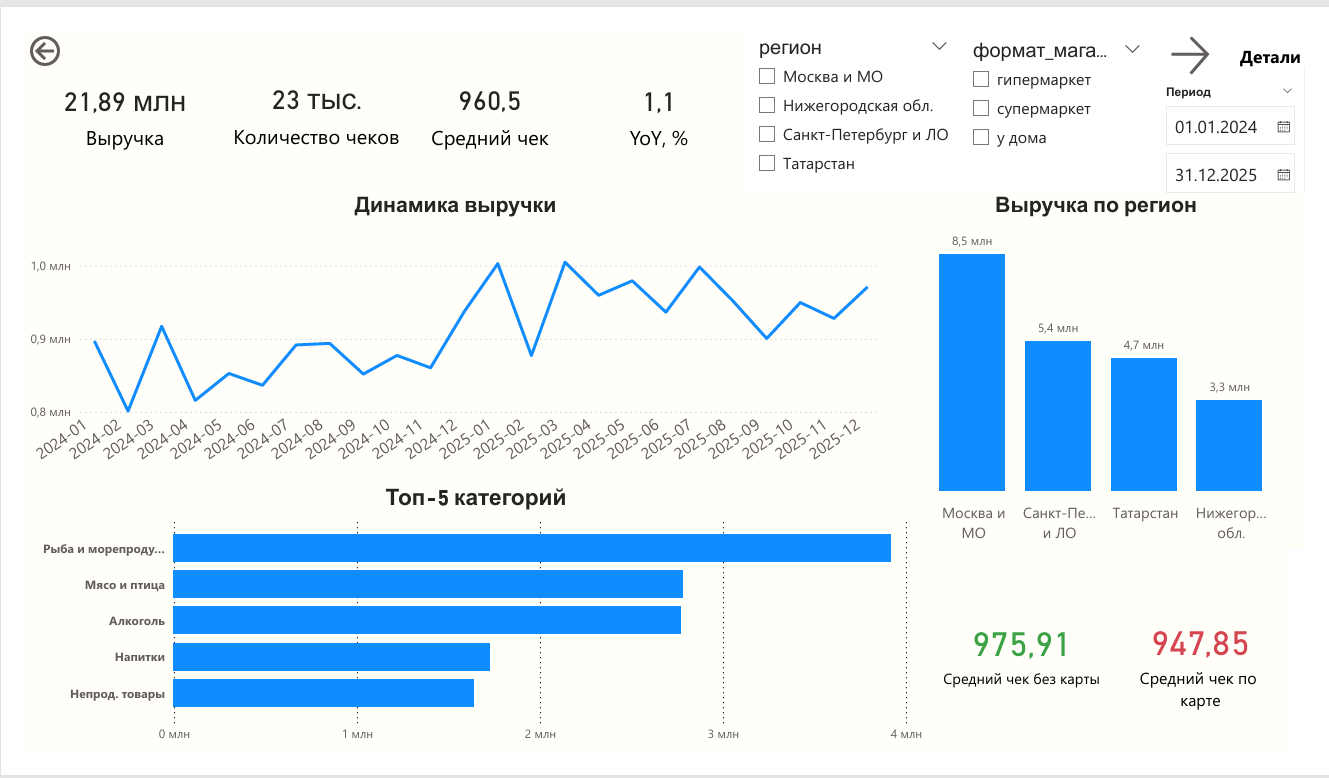

The page's visual inventory and layout, read from the dashboard file:
{"tool":"powerbi","page":{"name":"Обзор","canvas":[1280,720],"ordinal":0},"visuals":[{"type":"card","fields":{"Values":["fact_sales.Выручка"]},"box":[0,3.2,200.4,159.1],"z":0},{"type":"card","fields":{"Values":["fact_sales.Количество чеков"]},"box":[200.4,0,182.9,162.2],"z":1000},{"type":"card","fields":{"Values":["fact_sales.Средний чек"]},"box":[383.3,1.6,163.8,160.7],"z":2000},{"type":"card","fields":{"Values":["fact_sales.YoY, %"]},"box":[547.2,3.2,173.4,159.1],"z":3000},{"type":"lineChart","title":"Динамика выручки","fields":{"Category":["dim_calendar.Год-Месяц"],"Y":["fact_sales.Выручка"]},"box":[0,162.2,860.5,291.1],"z":4000},{"type":"card","fields":{"Values":["fact_sales.Средний чек без карты"]},"box":[905.1,518.5,182.9,202],"z":5000},{"type":"card","fields":{"Values":["fact_sales.Средний чек по карте"]},"box":[1088,518.5,175,202],"z":6000},{"type":"clusteredColumnChart","title":"Выручка по регион","fields":{"Y":["fact_sales.Выручка"],"Category":["dim_stores.регион"]},"box":[862.1,162.2,418.3,356.3],"z":7000},{"type":"clusteredBarChart","title":"Топ-5 категорий","fields":{"Y":["fact_sales.Выручка"],"Category":["dim_products.категория"]},"box":[0,453.3,901.9,267.2],"z":8000},{"type":"slicer","fields":{"Values":["dim_calendar.Date"]},"box":[1127.7,49.3,152.7,112.9],"z":9000},{"type":"slicer","fields":{"Values":["dim_stores.регион"]},"box":[720.5,0,214.7,152.7],"z":10000},{"type":"slicer","fields":{"Values":["dim_stores.формат_магазина"]},"box":[935.3,3.2,192.5,120.9],"z":11000},{"type":"actionButton","box":[1140.5,0,140,49.3],"z":12000},{"type":"actionButton","box":[0,0,100,40],"z":13000}]}

Visuals, with their boxes on the page's 1280x720 design canvas (x1, y1, x2, y2). These are canvas units, not pixel positions in the 1329x778 screenshot, which may show the page scaled, cropped or inside an application window:
card - fact_sales.Выручка: {"x1": 0, "y1": 3, "x2": 200, "y2": 162}
card - fact_sales.Количество чеков: {"x1": 200, "y1": 0, "x2": 383, "y2": 162}
card - fact_sales.Средний чек: {"x1": 383, "y1": 2, "x2": 547, "y2": 162}
card - fact_sales.YoY, %: {"x1": 547, "y1": 3, "x2": 721, "y2": 162}
"Динамика выручки" lineChart: {"x1": 0, "y1": 162, "x2": 860, "y2": 453}
card - fact_sales.Средний чек без карты: {"x1": 905, "y1": 518, "x2": 1088, "y2": 720}
card - fact_sales.Средний чек по карте: {"x1": 1088, "y1": 518, "x2": 1263, "y2": 720}
"Выручка по регион" clusteredColumnChart: {"x1": 862, "y1": 162, "x2": 1280, "y2": 518}
"Топ-5 категорий" clusteredBarChart: {"x1": 0, "y1": 453, "x2": 902, "y2": 720}
slicer - dim_calendar.Date: {"x1": 1128, "y1": 49, "x2": 1280, "y2": 162}
slicer - dim_stores.регион: {"x1": 720, "y1": 0, "x2": 935, "y2": 153}
slicer - dim_stores.формат_магазина: {"x1": 935, "y1": 3, "x2": 1128, "y2": 124}
actionButton: {"x1": 1140, "y1": 0, "x2": 1280, "y2": 49}
actionButton: {"x1": 0, "y1": 0, "x2": 100, "y2": 40}
